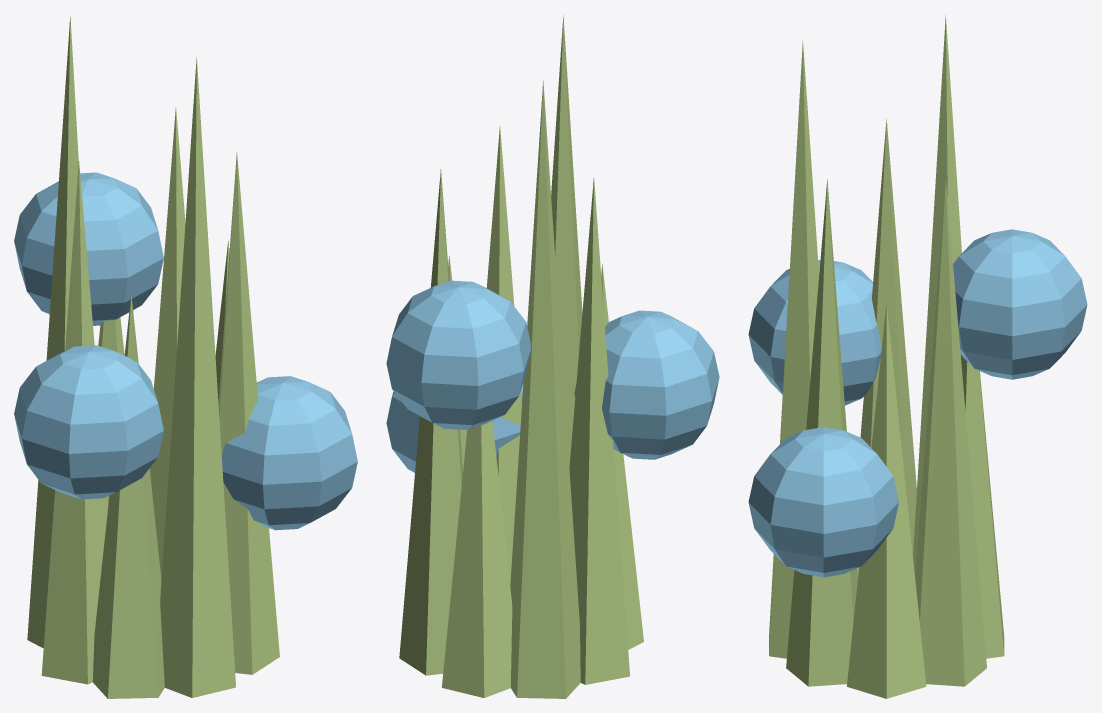
Rendered from 4102_kelpfruit.glb.
3 views of the same model, side by side, from view 1: azimuth 30°, elevation 25°; view 2: azimuth 150°, elevation 25°; view 3: azimuth 270°, elevation 25° (orthographic). The views are drawn at different scales.
Size of the model in its own units: 0.4398 by 0.8 by 0.405.
